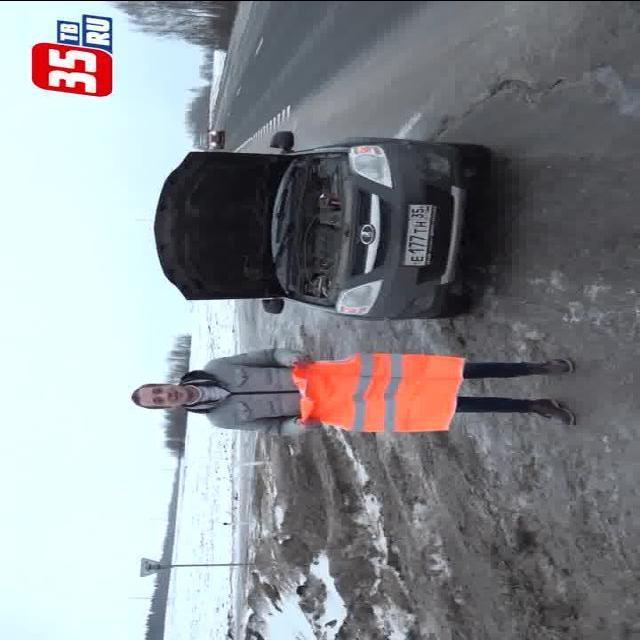vest: (287, 351, 472, 432)
